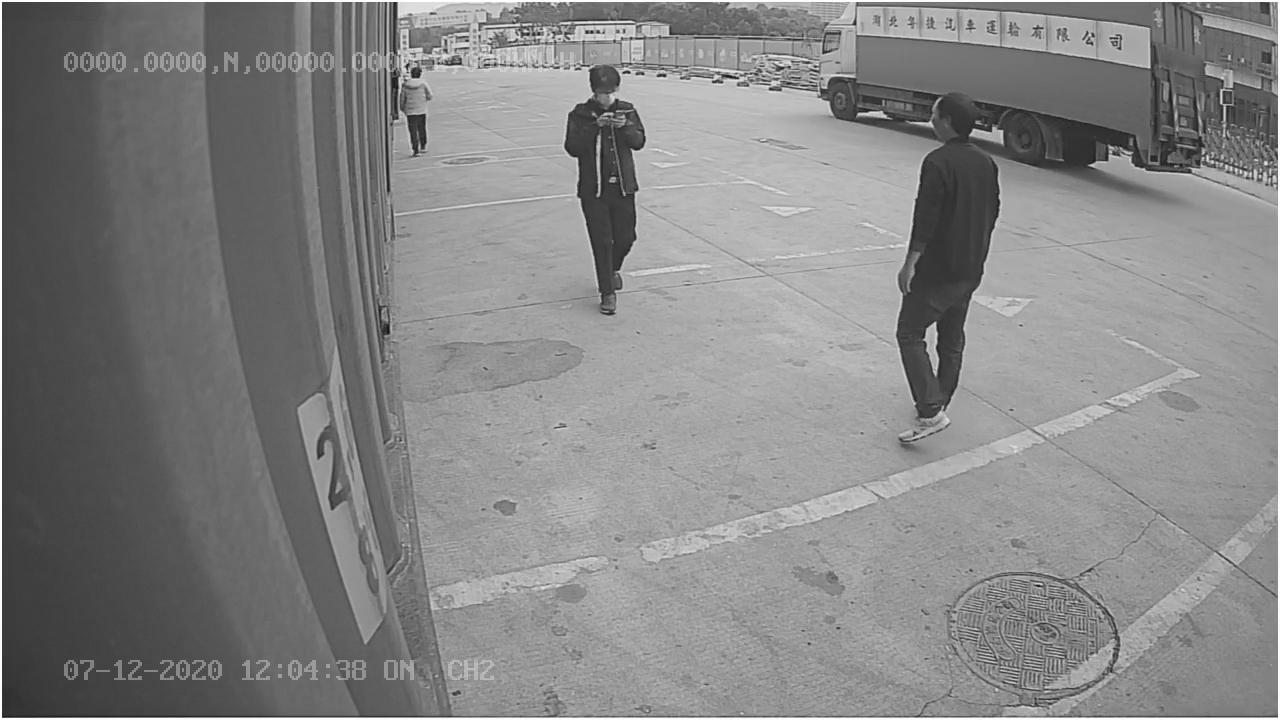person: (560, 66, 647, 315)
